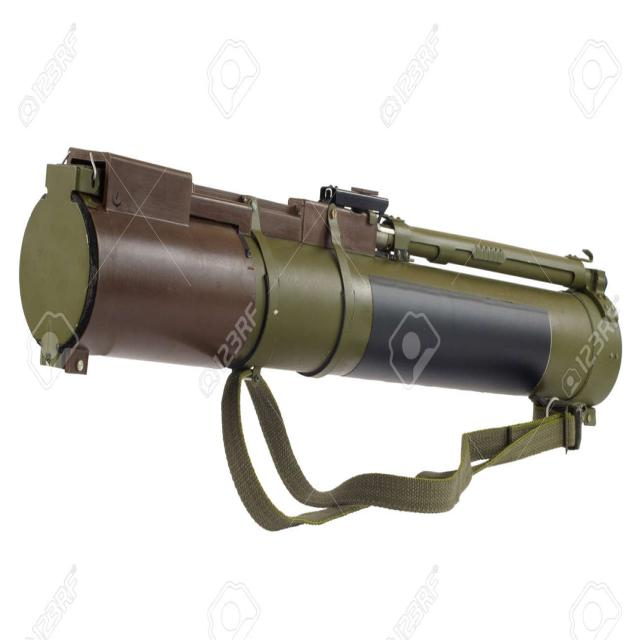bazooka: (21, 105, 629, 551)
